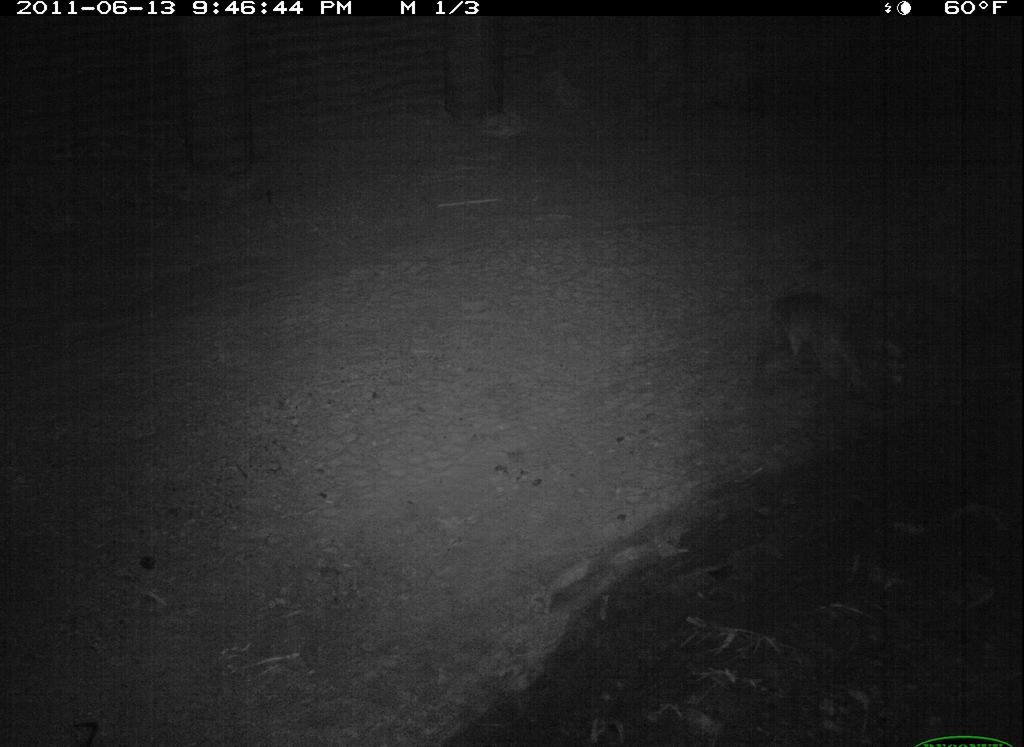raccoon: (757, 278, 881, 406)
